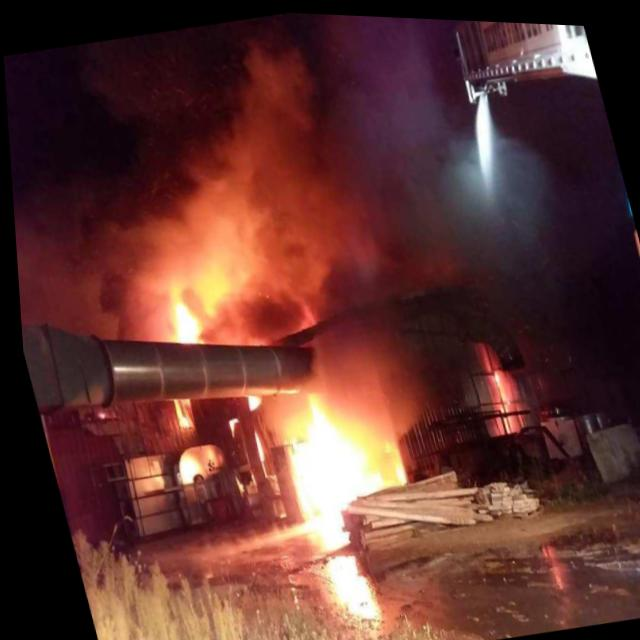fire: (255, 364, 415, 533), (467, 332, 523, 439), (149, 270, 210, 354), (235, 392, 275, 482), (157, 443, 204, 491), (163, 393, 192, 435), (219, 409, 238, 440)
